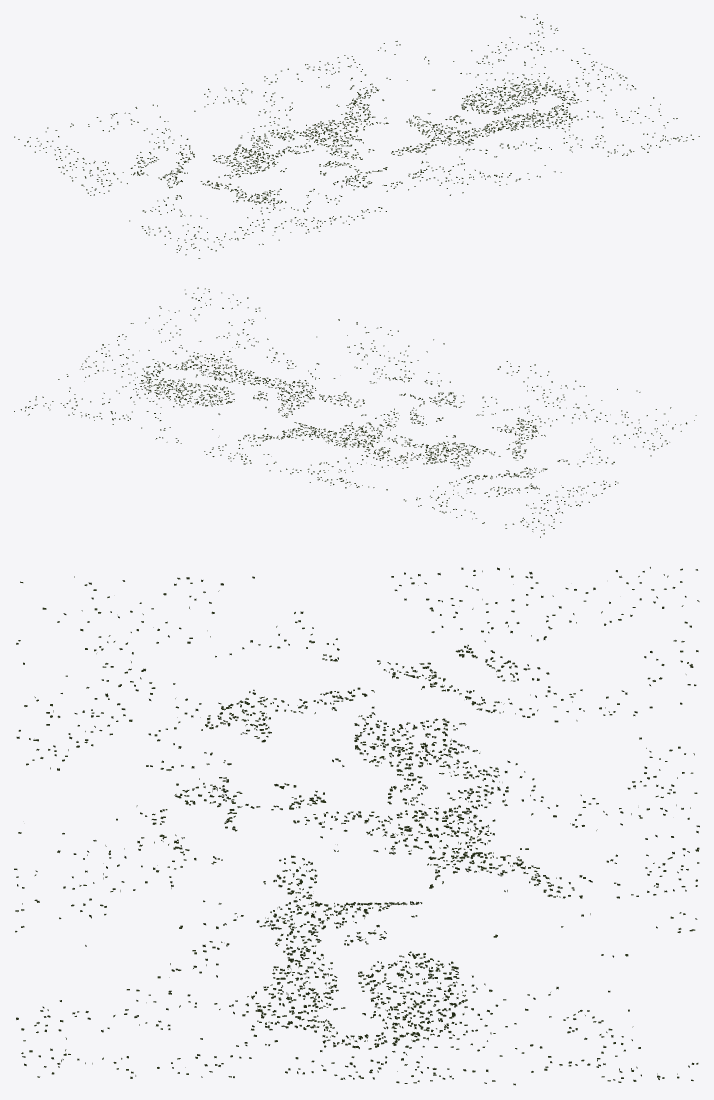
Rendered from SM_Art_Cover_L_HoldersWake_GrassBlades.gltf.
3 renders of one model, top to bottom at view 1: azimuth 30°, elevation 25°; view 2: azimuth 150°, elevation 25°; view 3: azimuth 270°, elevation 25°, orthographic. The views are drawn at different scales.
Visible parts, largest first — view 1: SM_Art_Cover_L_HoldersWake_GrassBlades; view 2: SM_Art_Cover_L_HoldersWake_GrassBlades; view 3: SM_Art_Cover_L_HoldersWake_GrassBlades.
Boxes of the visible parts, x1,y1,x2,y2 form: SM_Art_Cover_L_HoldersWake_GrassBlades: [14, 14, 699, 258]; SM_Art_Cover_L_HoldersWake_GrassBlades: [14, 287, 696, 537]; SM_Art_Cover_L_HoldersWake_GrassBlades: [14, 567, 699, 1085].
Bounding box in the file's own units: 323 × 9.57 × 185.
1 material, 1 textured.
